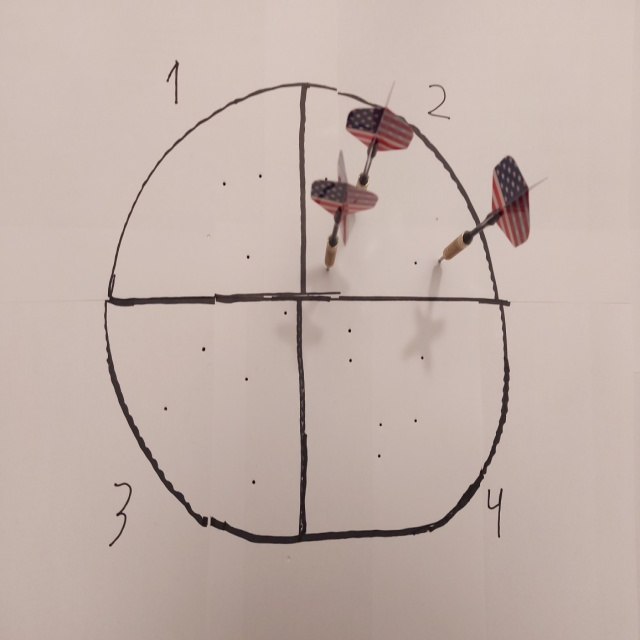Dart: (436, 152, 549, 273), (303, 148, 374, 275), (342, 79, 415, 193)
